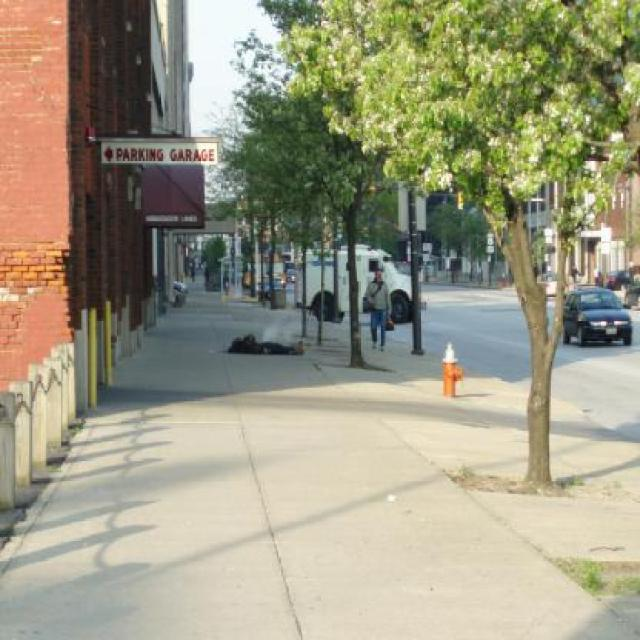Person: (366, 265, 394, 360)
